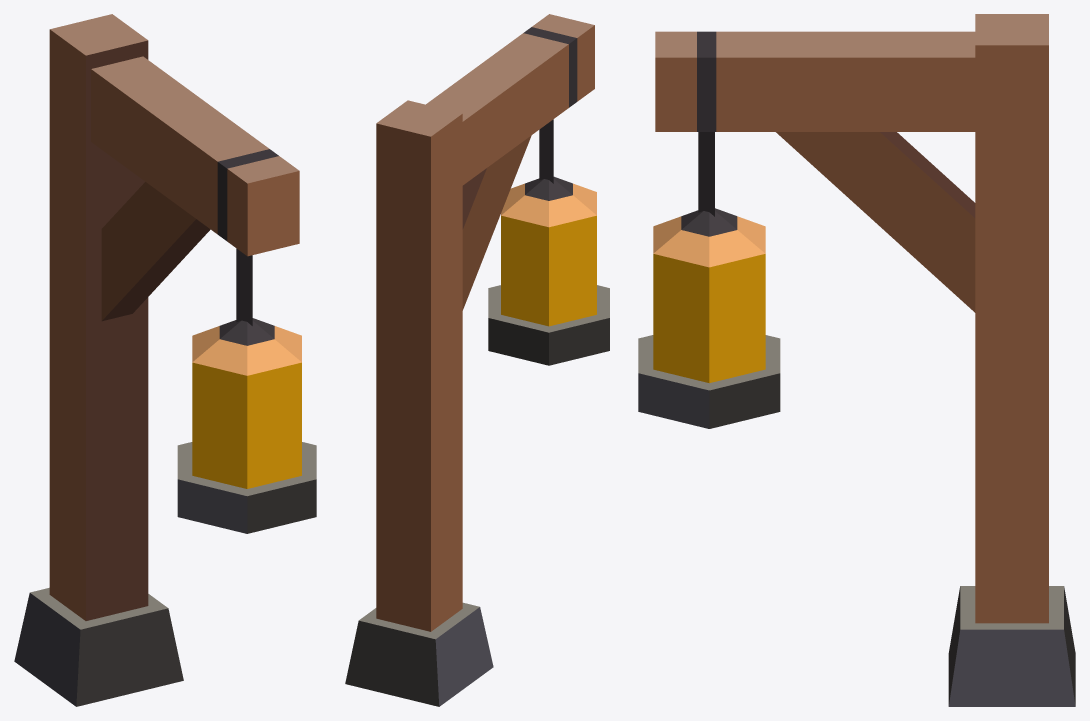
Rendered from TB_Prop_Light.FBX.
3 views of the same model, side by side, from view 1: azimuth 30°, elevation 25°; view 2: azimuth 150°, elevation 25°; view 3: azimuth 270°, elevation 25° (orthographic). The views are drawn at different scales.
Parts seen in each view (by area): view 1: TB_Prop_Light; view 2: TB_Prop_Light; view 3: TB_Prop_Light.
Part boxes in pixels (bbox=[...]): TB_Prop_Light: bbox=[14, 14, 316, 706]; TB_Prop_Light: bbox=[345, 14, 609, 706]; TB_Prop_Light: bbox=[638, 14, 1075, 706].
Size of the model in its own units: 0.8 by 3.5 by 2.13.
